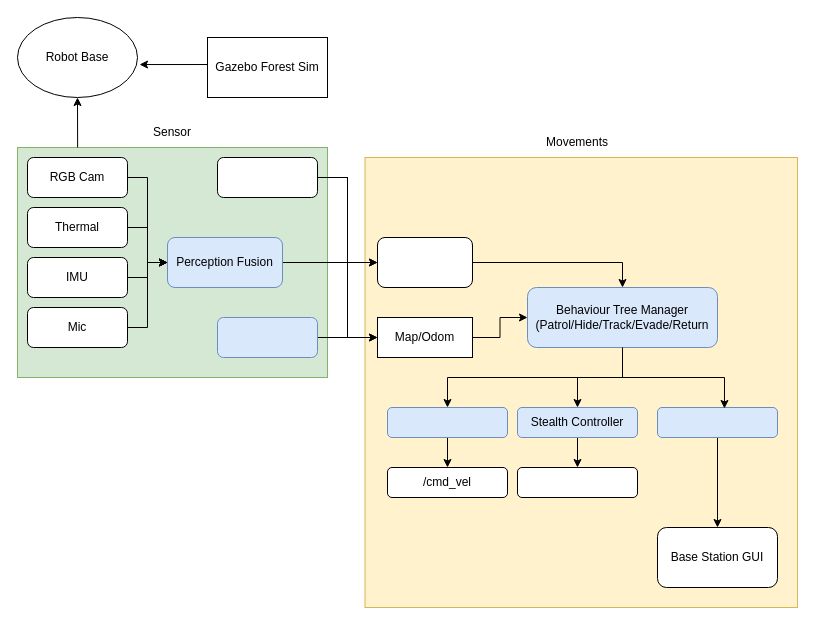
The diagram is 815 pixels wide and 625 high, and some of its shapes have lost their labels. Here are the shapes that lost their labels. From the top down, the box of each, then its label:
(216, 156, 318, 198): Lidar
(376, 236, 472, 288): Target Tracker
(216, 316, 318, 358): SLAM/State est
(386, 406, 508, 438): Nav2
(656, 406, 778, 438): Alert/Comms
(516, 466, 638, 498): Data Logger
